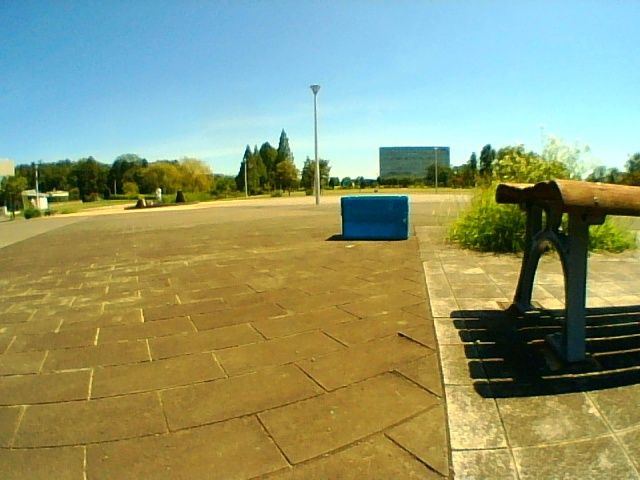blue_box: (342, 196, 408, 240)
